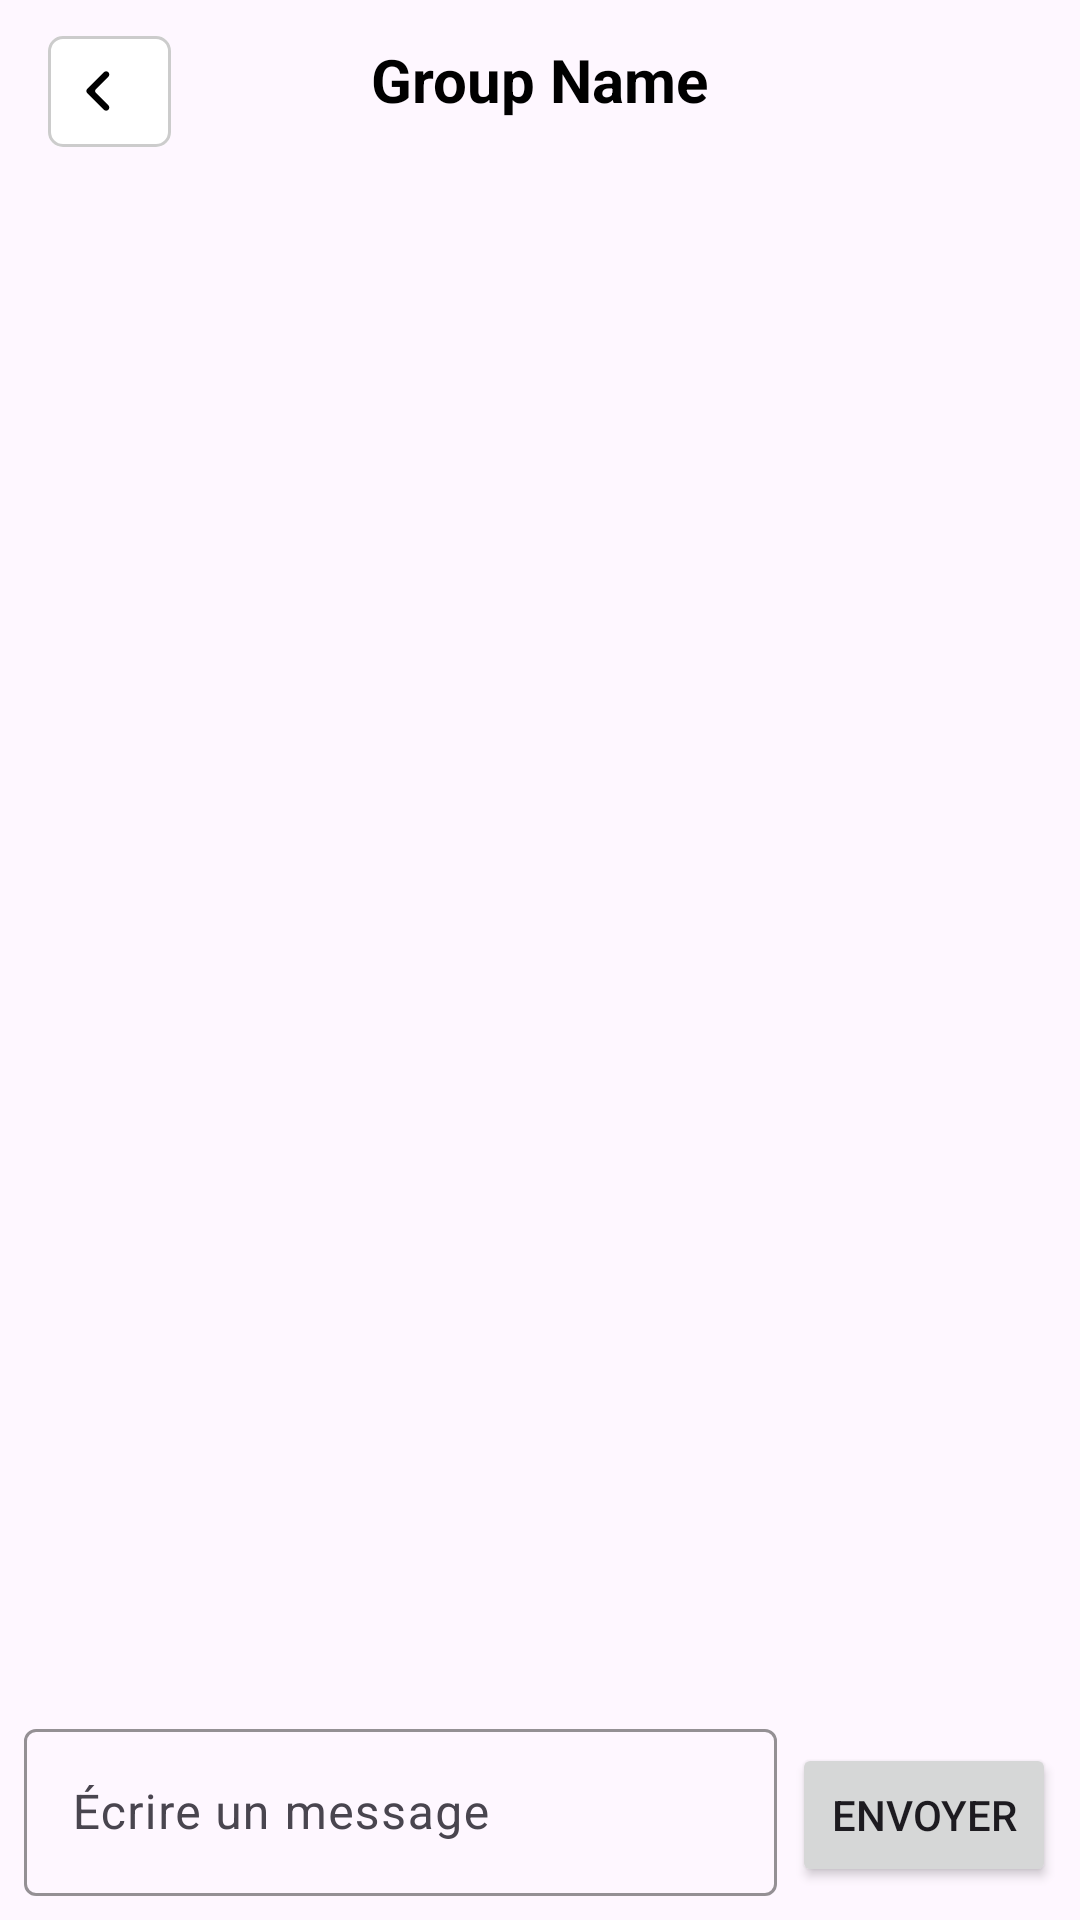

Where to tap for icons on this 1080 x 1920 app screen, as (x=x, y=y):
chevron left: (x=109, y=91)
